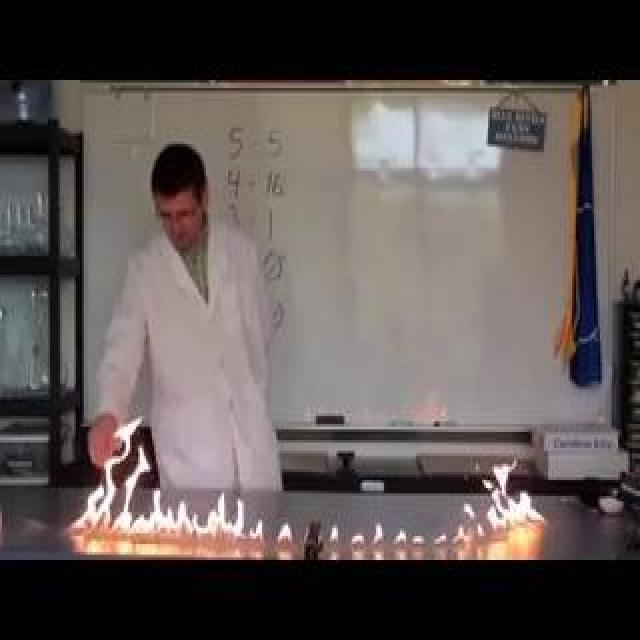Fire: (304, 122, 486, 496)
